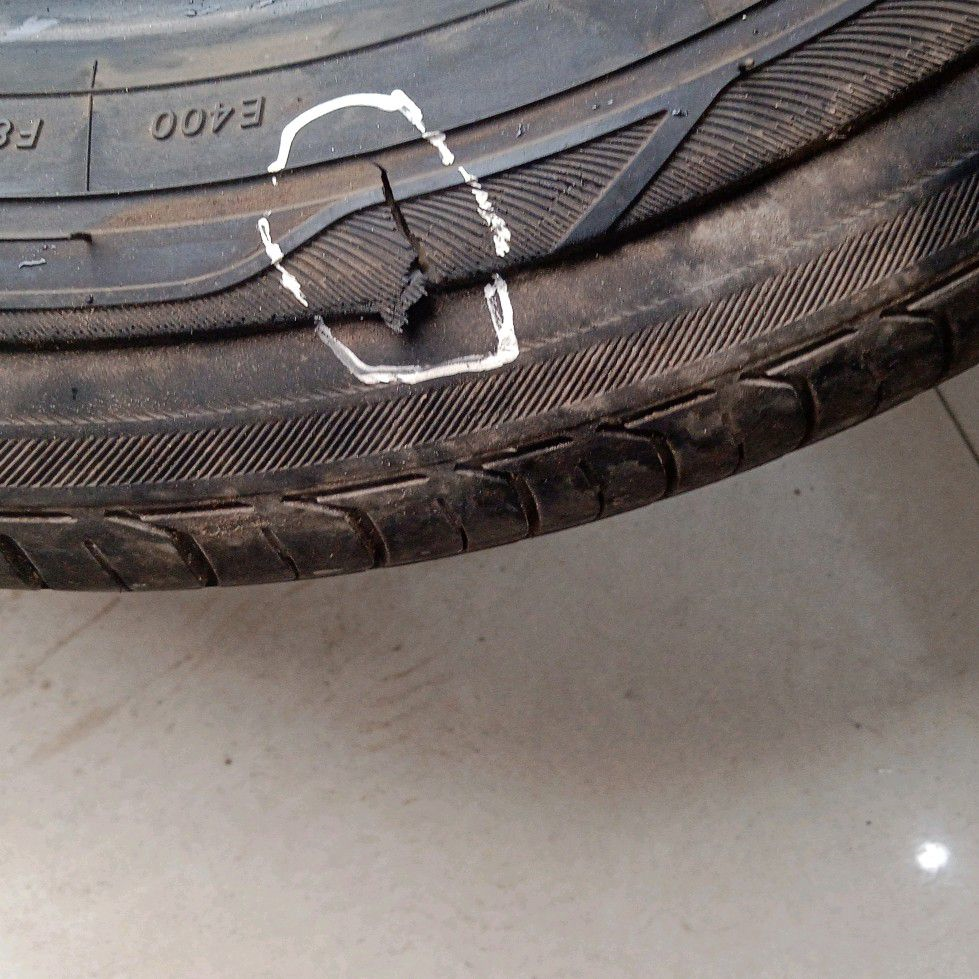cut: (365, 162, 430, 300)
